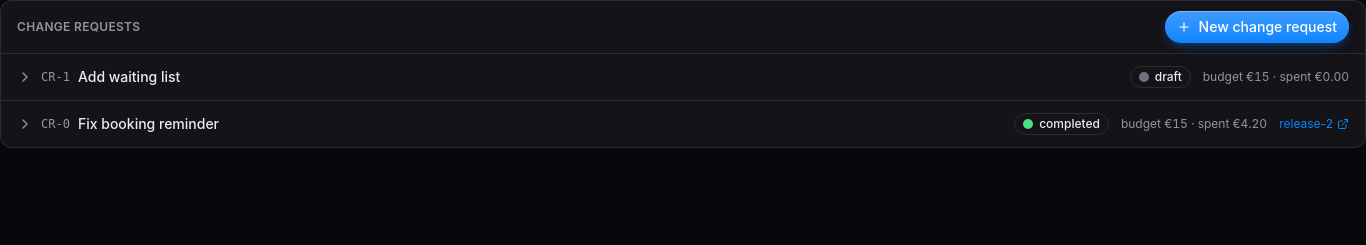
ChangesTab › lets an admin start a draft on a completed project and a member only estimate
The width and height of the screenshot is (1366, 245).
Later steps or results of the test are not shown.
Click the button "CR-1 Add waiting list": [129, 76] box x1=17 y1=67 x2=1118 y2=87
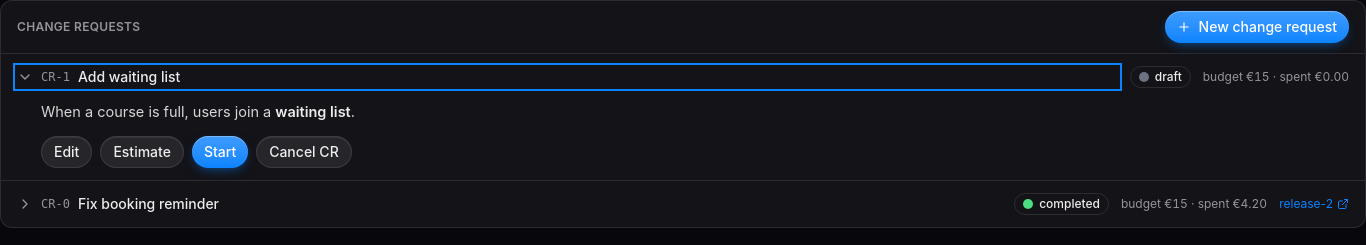
Click the button "Estimate": [142, 152] box x1=100 y1=136 x2=184 y2=168
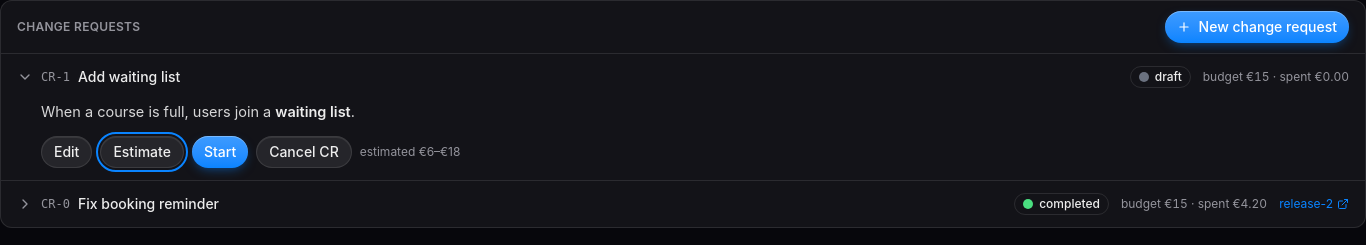
expect the text "estimated €6–€18" is shown: met, box x1=360 y1=144 x2=460 y2=160
